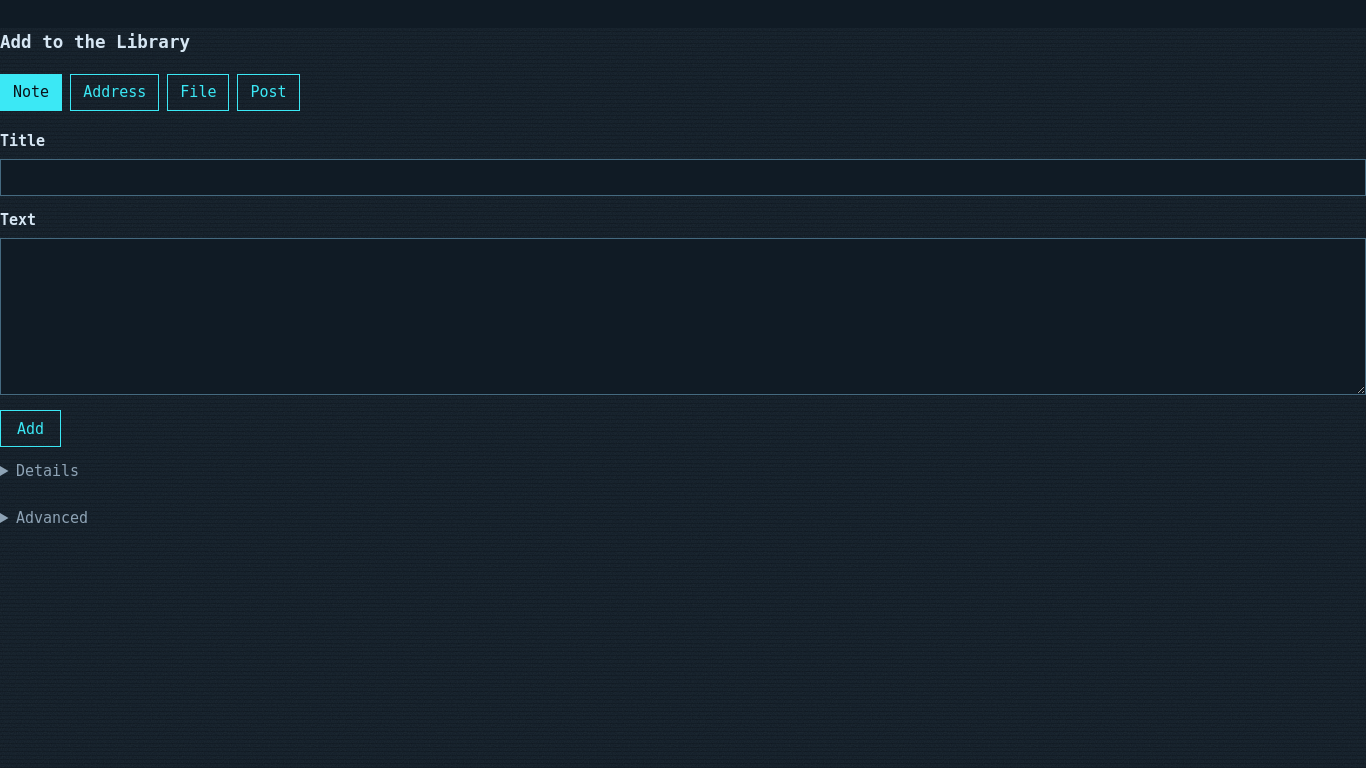
Test: adding to the research base › starts on a note, and the three kinds can be chosen
Expected: the field labelled "Title" is shown, [0,159,1365,196]
Expected: the text box labelled "Text" is shown, [0,238,1365,395]
Click the button "Address": (115, 92) [70,74,159,111]
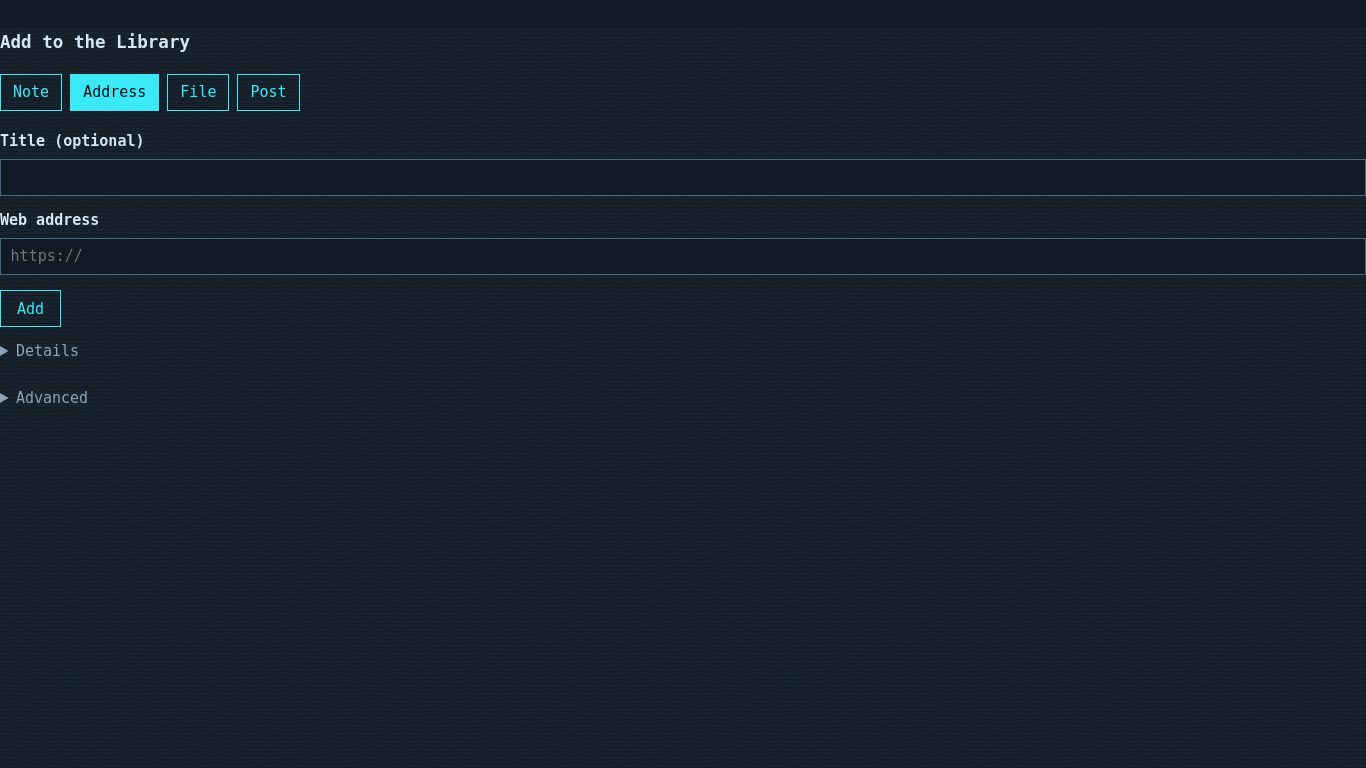
Result: the field labelled "Web address" is shown at [0,238,1365,275]
Result: the label labelled "Text" is gone
Click the button "File": (198, 92) [167,74,229,111]
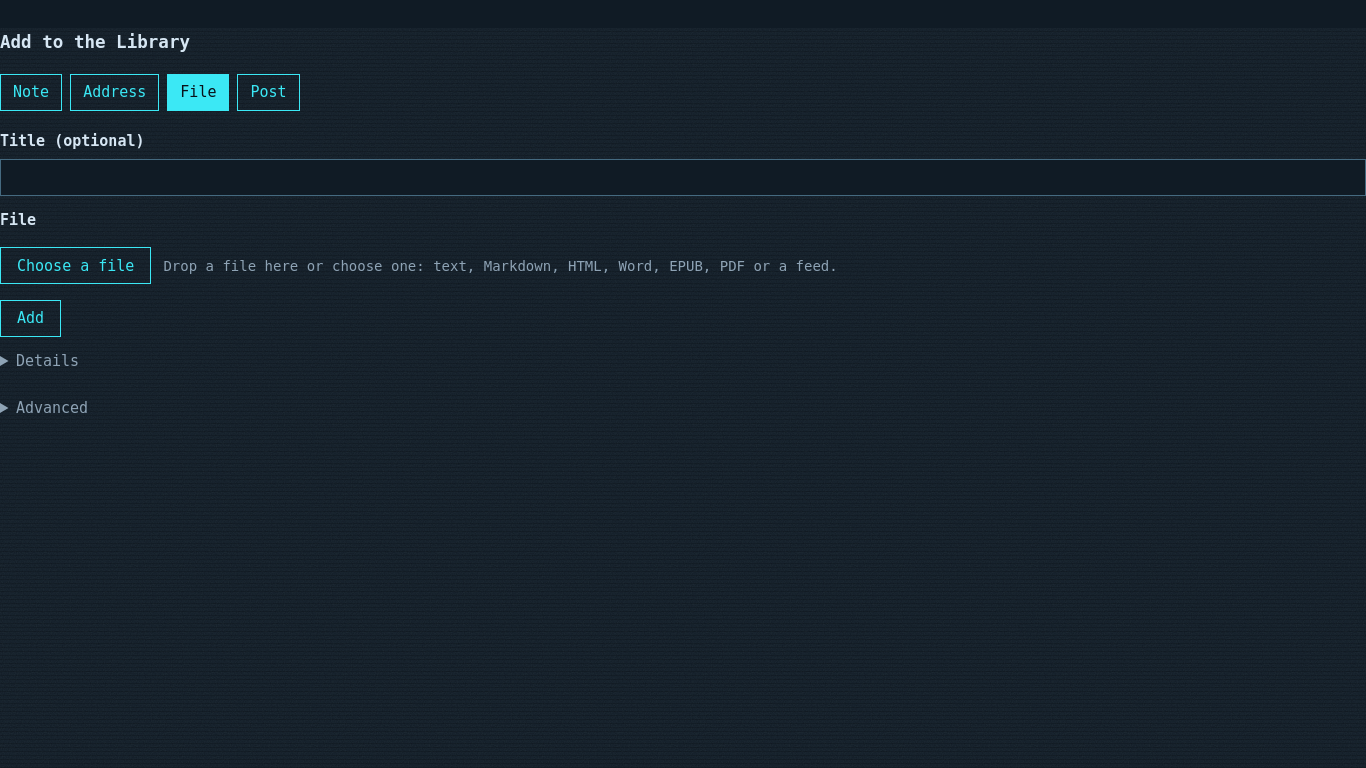
Result: the file field labelled "File" is shown at [0,211,36,229]
